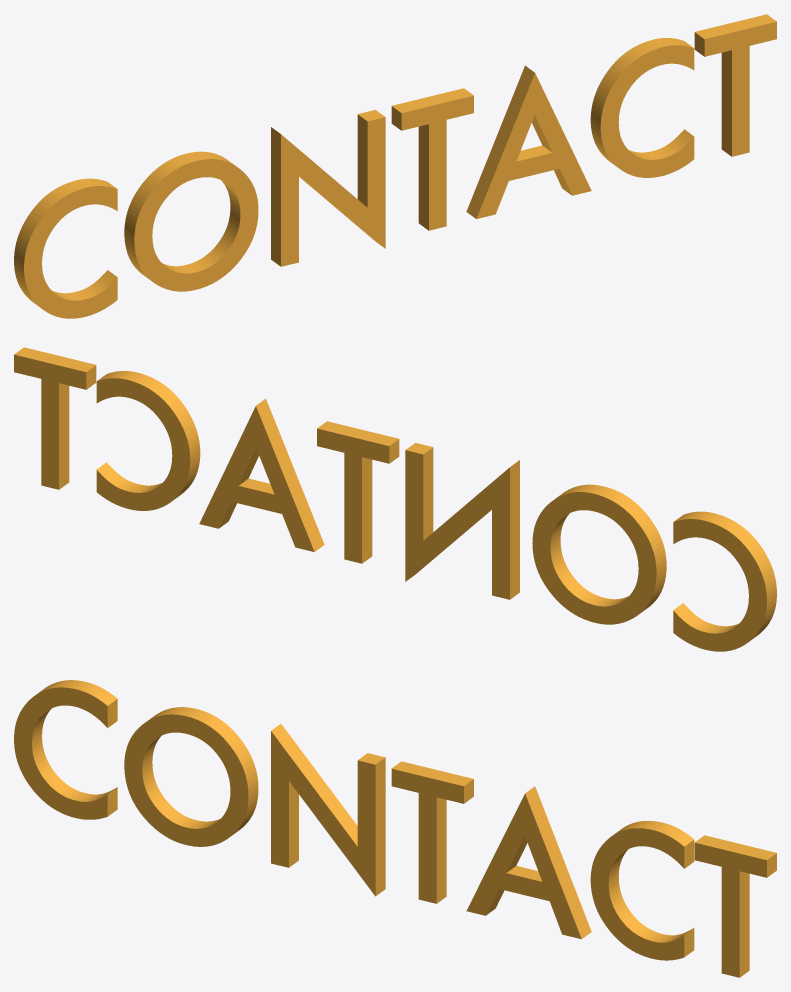
Rendered from contact.glb.
3 views of the same model, one above another, from view 1: azimuth 30°, elevation 25°; view 2: azimuth 150°, elevation 25°; view 3: azimuth 330°, elevation 25° (orthographic).
Visible parts, largest first — view 1: テキスト; view 2: テキスト; view 3: テキスト.
Part boxes in pixels (box(x1,y1,x2,y2)): テキスト: box(14, 14, 776, 318); テキスト: box(14, 347, 776, 651); テキスト: box(14, 680, 776, 977).
Size of the model in its own units: 20.37 by 3.63 by 0.4701.
